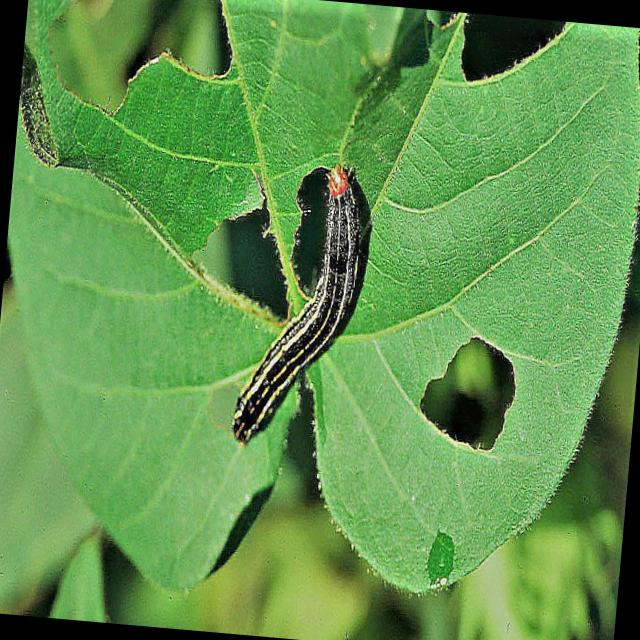Armyworm: (225, 159, 401, 491)
Armyworm_damage: (400, 291, 534, 506), (186, 188, 299, 345)
